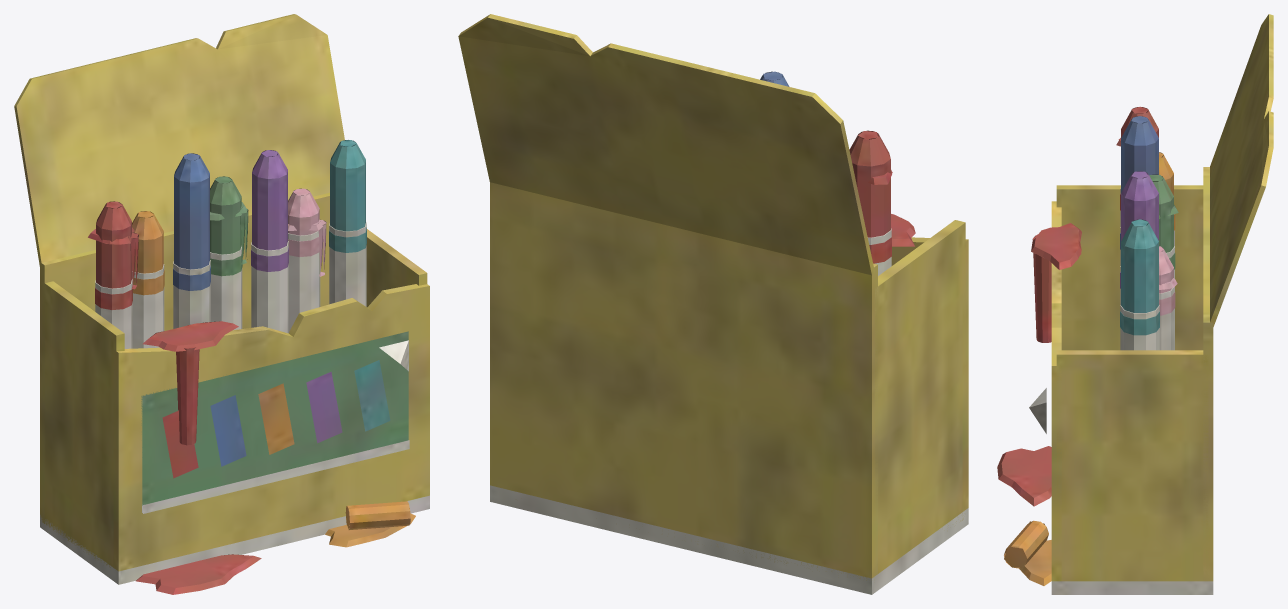
Rendered from T18_crayon_box.glb.
3 renders of one model, left to right at view 1: azimuth 30°, elevation 25°; view 2: azimuth 150°, elevation 25°; view 3: azimuth 270°, elevation 25°, orthographic. The views are drawn at different scales.
Parts seen in each view (by area): view 1: Carton bottom; view 2: Carton bottom; view 3: Carton bottom.
Boxes of the visible parts, x1=… form: Carton bottom: x1=14, y1=14, x2=429, y2=594; Carton bottom: x1=458, y1=14, x2=968, y2=594; Carton bottom: x1=997, y1=14, x2=1273, y2=594.
Size of the model in its own units: 0.1537 by 0.2 by 0.1152.
Materials: 9 (9 with a texture image).
